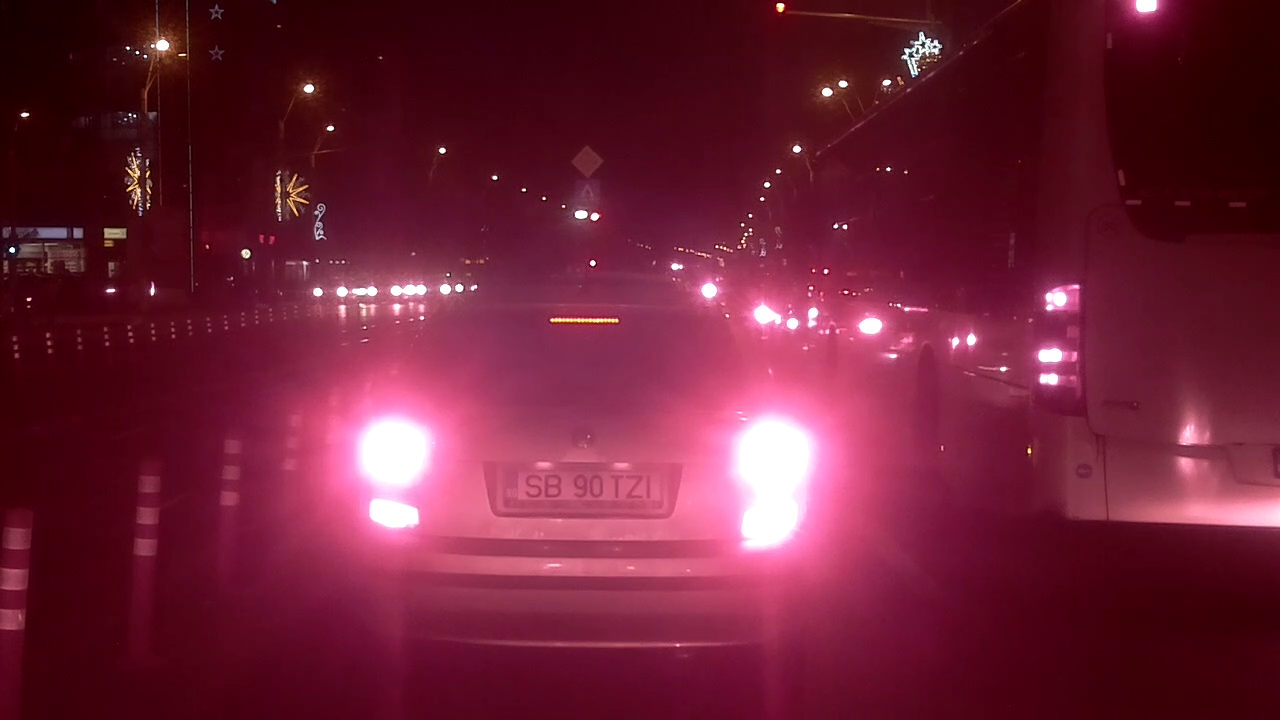license-plate: (497, 467, 666, 507)
